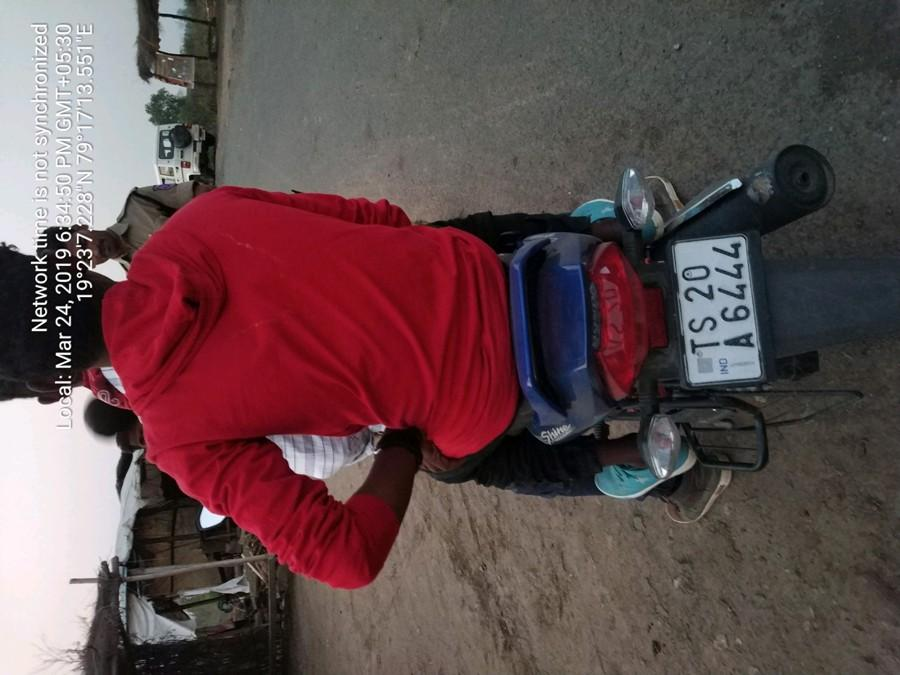plate: (660, 216, 773, 394)
